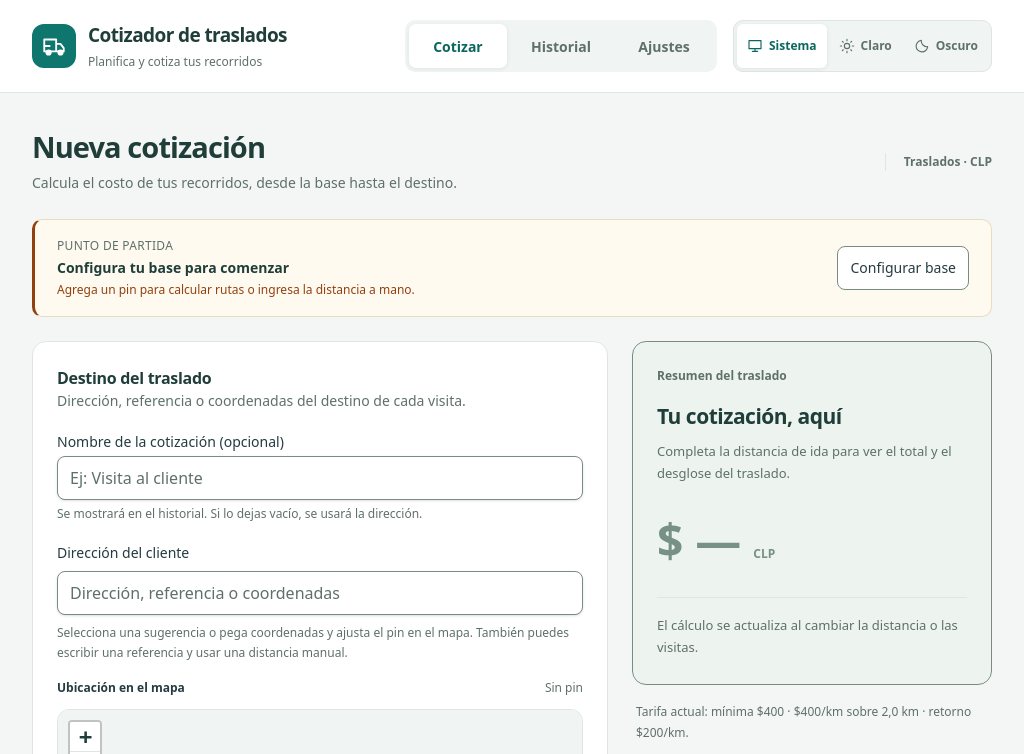
App › renders the quote form and switches tabs
Check: the heading "Cotizador de traslados" is shown, box [88,21,287,50]
Check: the dropdown labelled "Dirección del cliente" is shown, box [57,571,583,615]
Click the radio button labelled "Oscuro" at (946, 46), box [914,37,978,54]
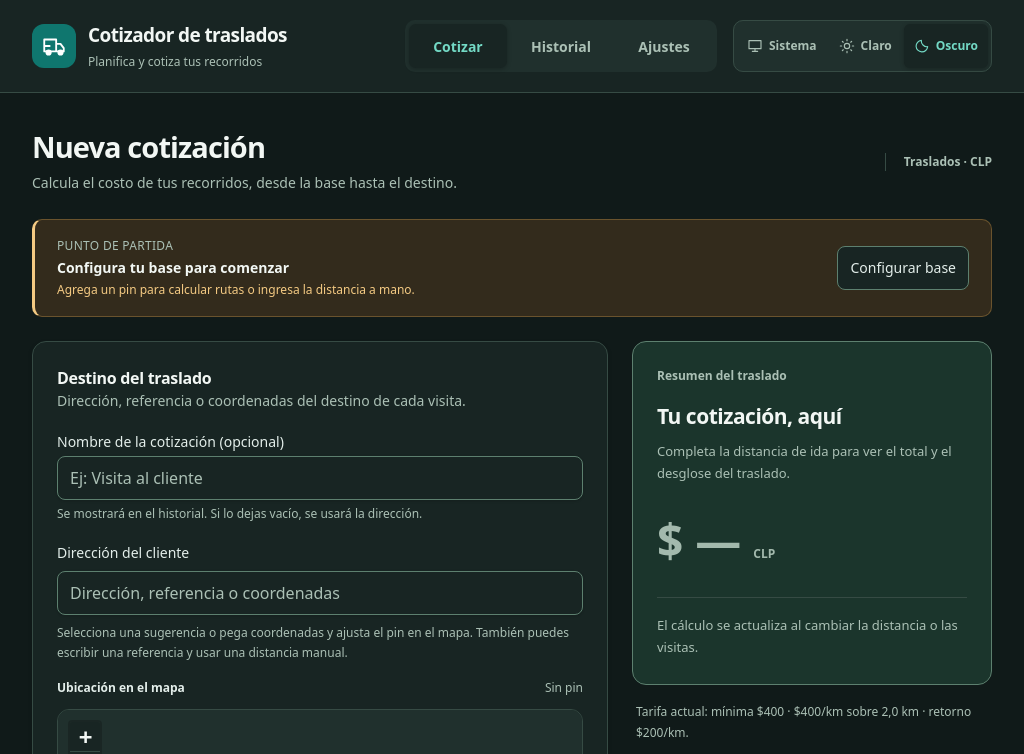
Click the button "Ajustes" at (664, 46), box [615,24,713,68]
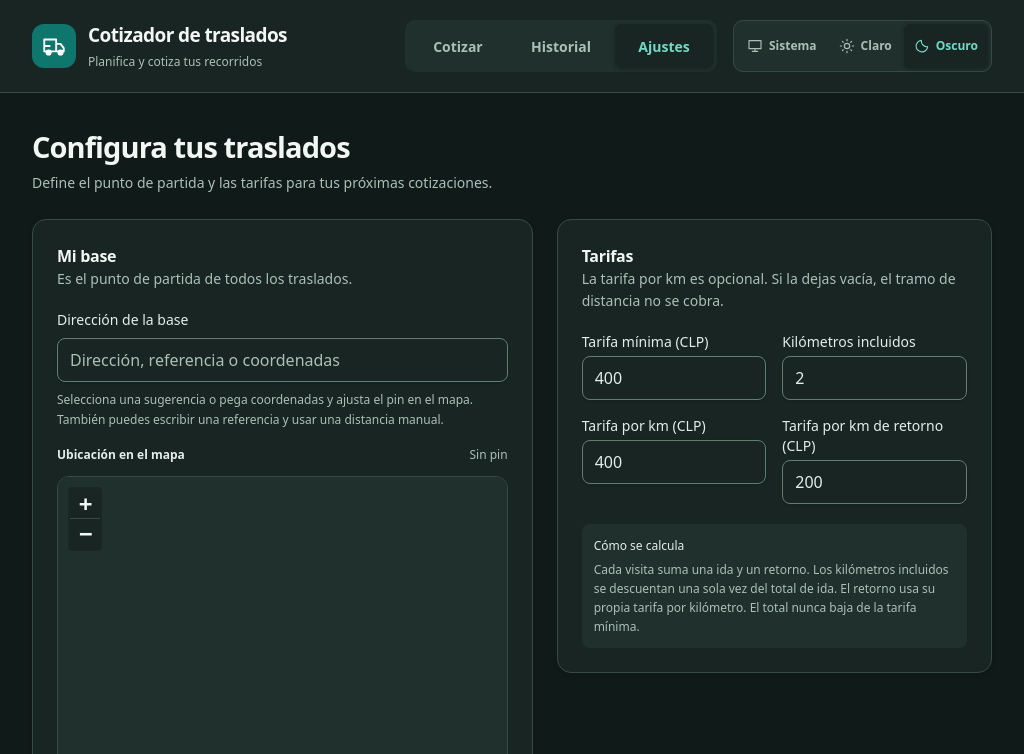
Check: the radio button labelled "Oscuro" is checked, box [904,24,988,68]
Check: the dropdown labelled "Dirección de la base" is shown, box [57,338,508,382]
Check: the field labelled "Tarifa mínima (CLP)" is shown, box [582,356,766,400]
Click the button "Historial" at (561, 46), box [511,24,611,68]
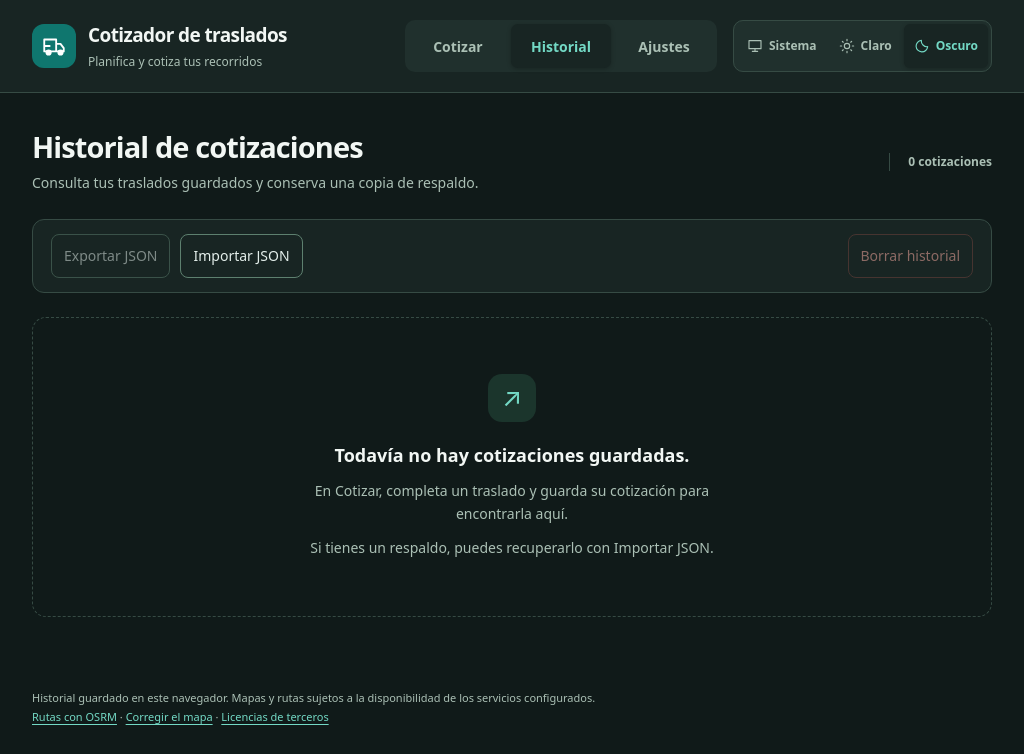
Check: the heading "Todavía no hay cotizaciones guardadas." is shown, box [334,443,690,467]
